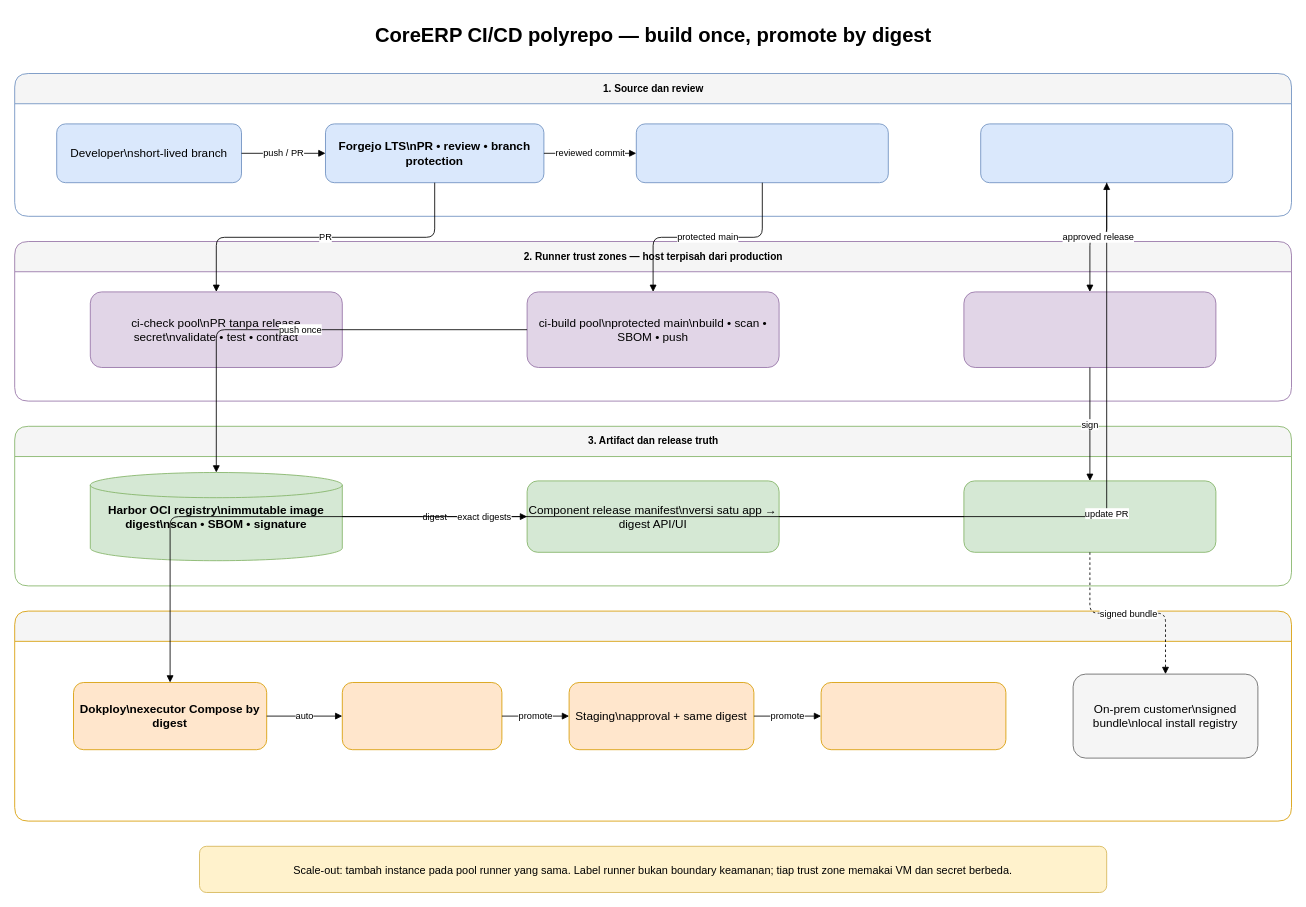
This 1306x907 diagram has some shape labels left out. Each missing label, with the box of its shape:
4. Promotion dan customer delivery: (14, 610, 1292, 821)
ci-release pool\nprotected release ref\nverify • sign • promote: (963, 291, 1216, 368)
Dev\nsame digest: (341, 682, 502, 750)
Production\napproval + same digest: (820, 682, 1006, 750)
Repository app\nAPI • UI • DB • contracts • app.yaml: (635, 123, 888, 183)
Repository product release\nmanifest kombinasi digest: (980, 123, 1233, 183)
Signed product release manifest\nkombinasi component digest: (963, 480, 1216, 552)
